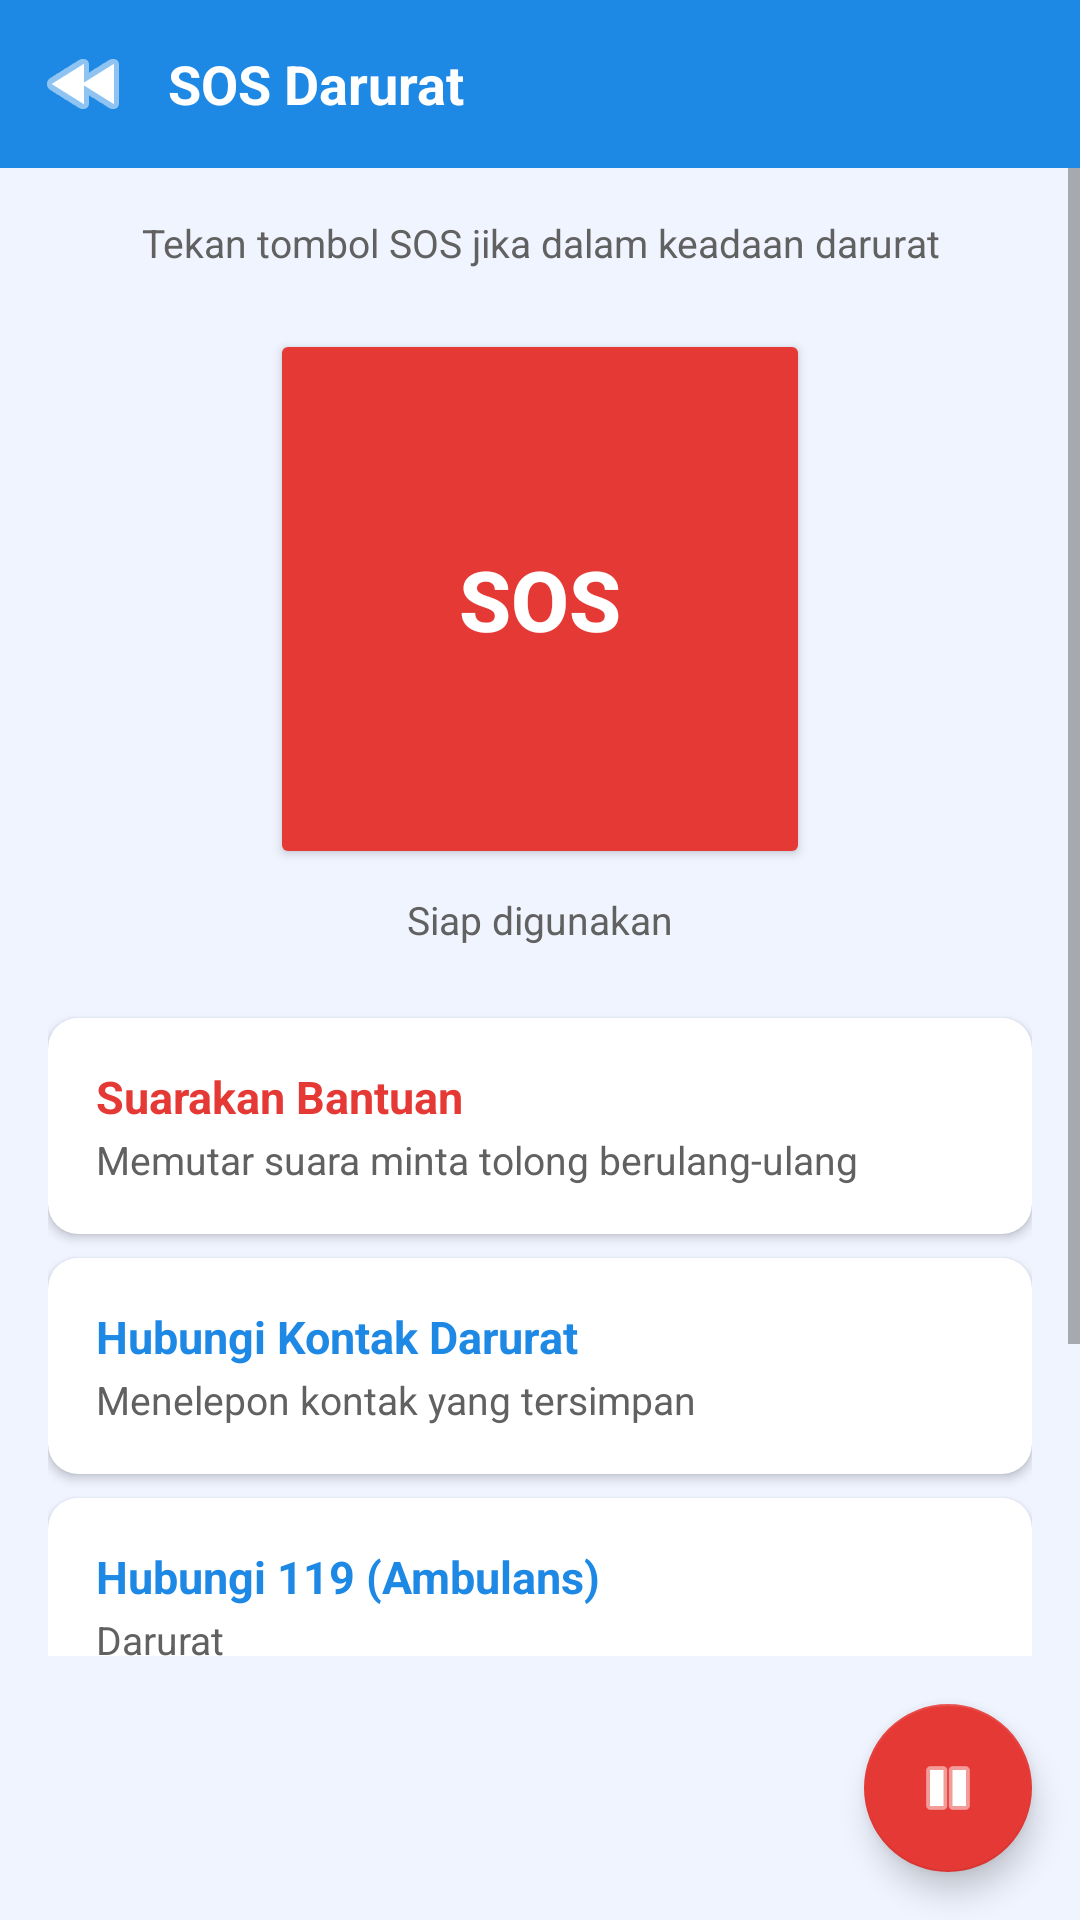

Where icons sit on this 1080×1920 app screen, as box(x1, y1, x2, y2):
Hentikan SOS: box(864, 1704, 1032, 1872)
Kembali: box(47, 59, 119, 109)
